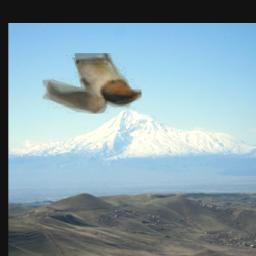Swallow: (44, 53, 143, 114)
